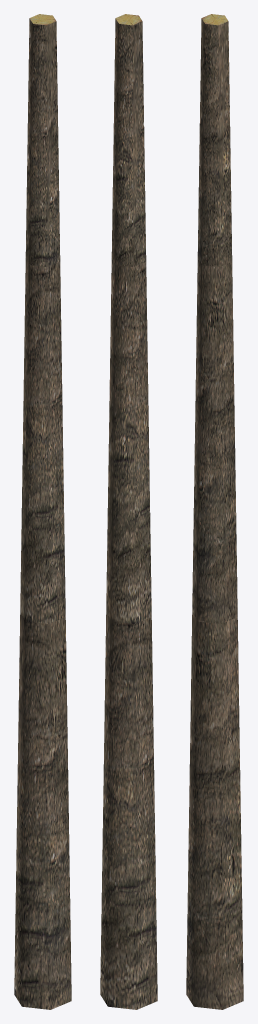
The model's file is fracturePiece2.fbx.
The picture shows the model from 3 angles, left to right: view 1: azimuth 90°, elevation 25°; view 2: azimuth 150°, elevation 25°; view 3: azimuth 330°, elevation 25°; orthographic projection.
Parts seen in each view (by area): view 1: polySurface2; view 2: polySurface2; view 3: polySurface2.
Boxes of the visible parts, bbox=[...] form: polySurface2: bbox=[14, 14, 71, 1009]; polySurface2: bbox=[100, 14, 157, 1009]; polySurface2: bbox=[186, 14, 243, 1009].
Bounding box in the file's own units: 39.32 × 738 × 39.32.
